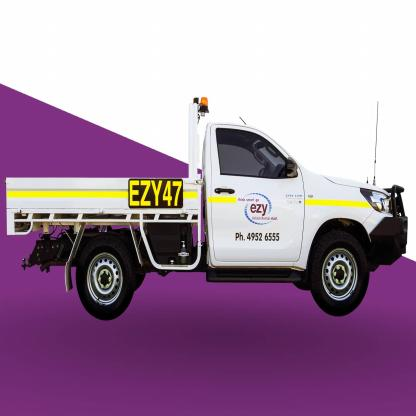light_vehicle: (3, 90, 409, 320)
